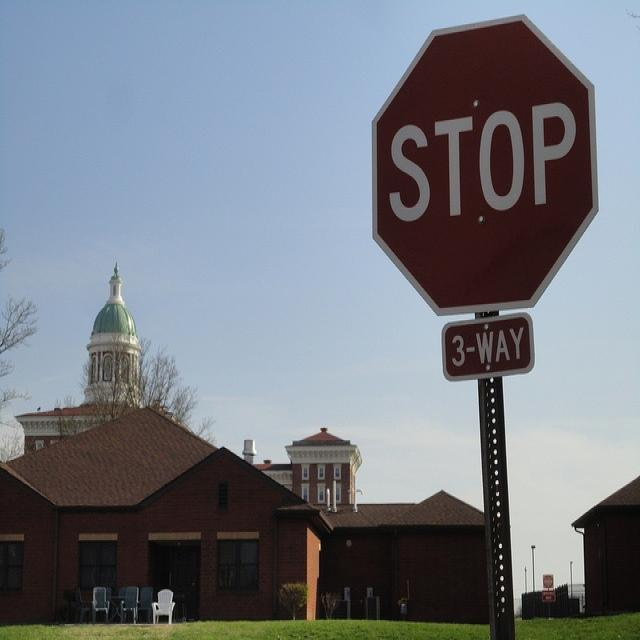pole: (472, 309, 516, 639)
